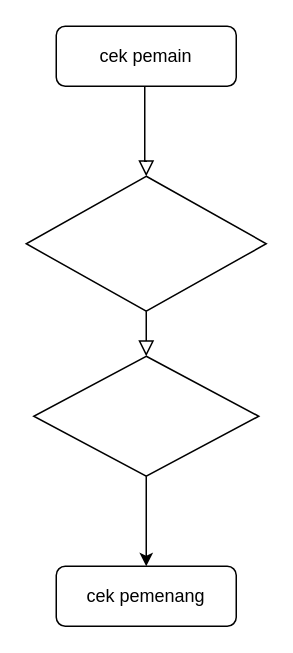
This 293x653 diagram has some shape labels left out. The shapes that lost their labels are listed below. From the top down, each one's box as (x1, y1, x2, y2) in pixels, then its label:
(25, 175, 266, 311): pemain di garis start
(32, 355, 259, 476): pemain melewati area balapan
